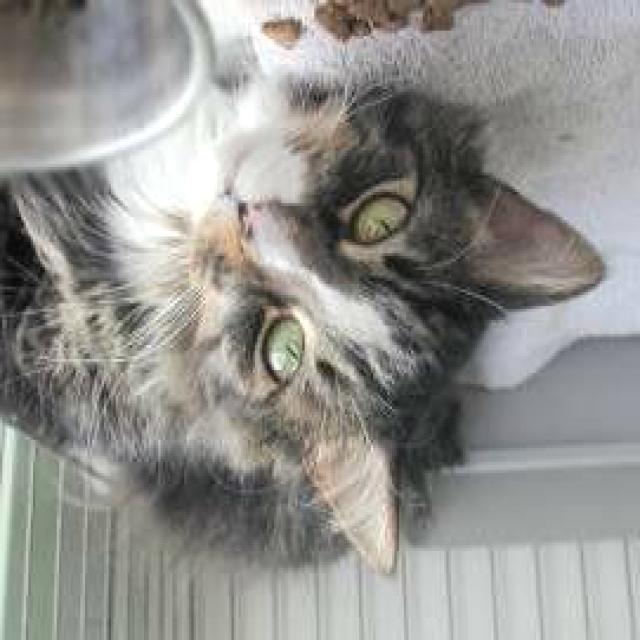Kucing: (0, 56, 605, 620)
